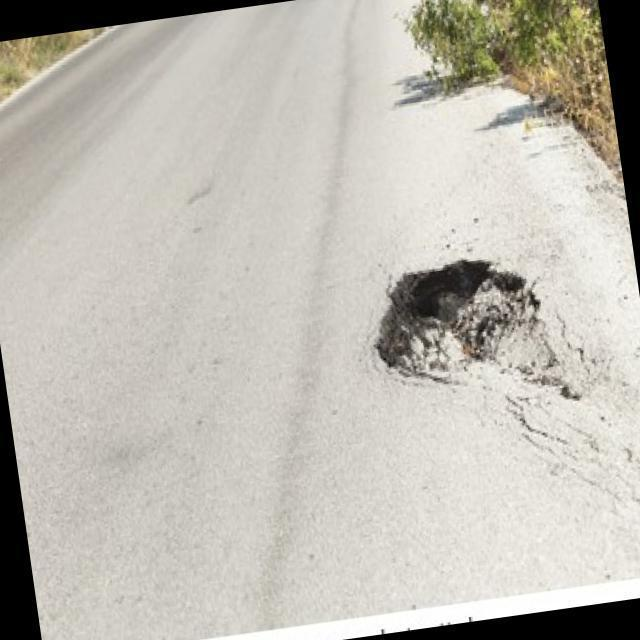pothole: (364, 237, 564, 411)
